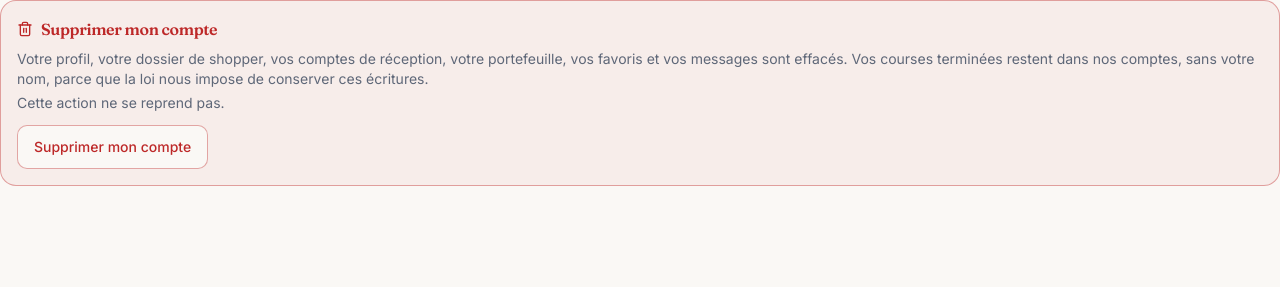
carte de suppression de compte › ne supprime pas sur un simple clic
Click the button "Supprimer mon compte".
click(113, 147)  # box [17,125,208,169]
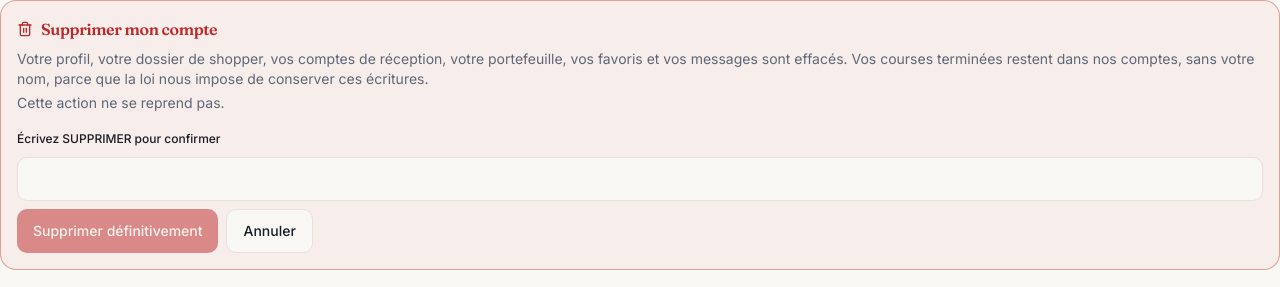
Check: the button "Supprimer définitivement" is disabled, box [17,209,218,253]
